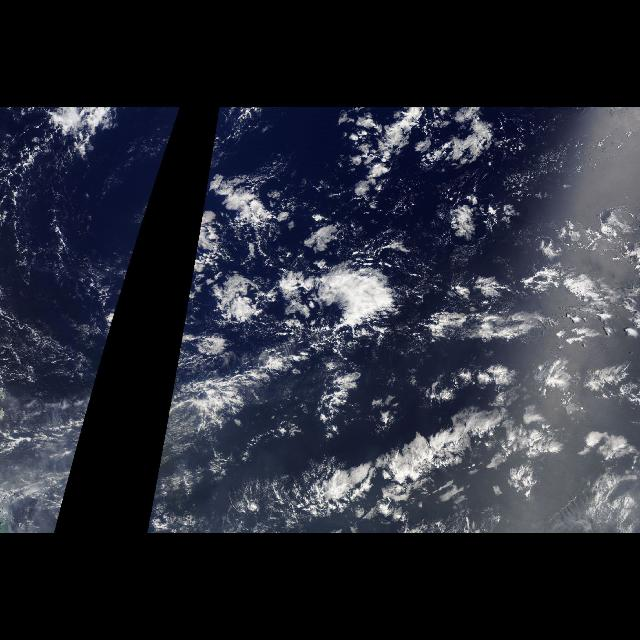Flower: (212, 171, 630, 524)
